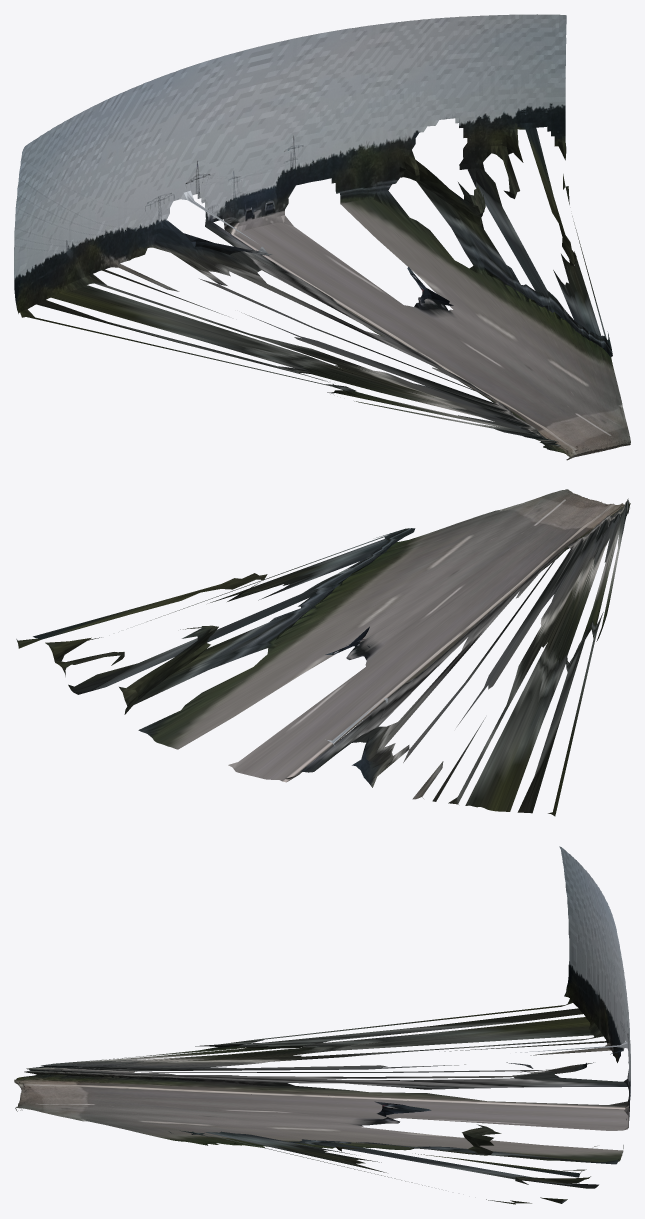
The picture shows the model from 3 angles, top to bottom: view 1: azimuth 30°, elevation 25°; view 2: azimuth 150°, elevation 25°; view 3: azimuth 270°, elevation 25°; orthographic projection. The views are drawn at different scales.
Parts seen in each view (by area): view 1: defaultobject; view 2: defaultobject; view 3: defaultobject.
Boxes of the visible parts, x1=… form: defaultobject: x1=14, y1=14, x2=630, y2=460; defaultobject: x1=16, y1=489, x2=630, y2=816; defaultobject: x1=14, y1=846, x2=630, y2=1204.
Size of the model in its own units: 41.16 by 13.23 by 44.63.
Materials: 1 (1 with a texture image).
